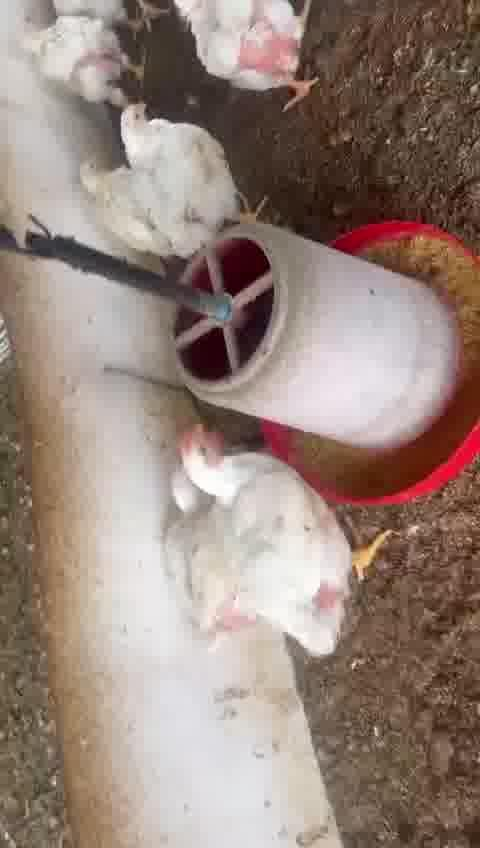Normal: (177, 424, 385, 649), (169, 472, 294, 652), (122, 104, 265, 225), (177, 5, 323, 108), (70, 157, 208, 245), (17, 24, 153, 105)
